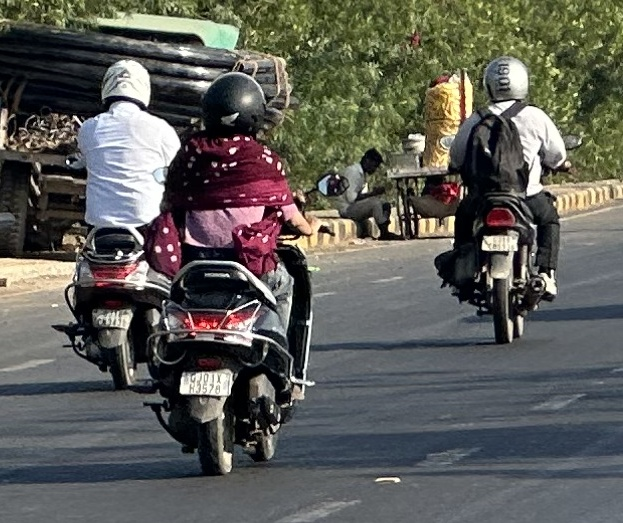BikeWithRider: (128, 64, 325, 481), (45, 51, 190, 396), (425, 48, 588, 349)
Helmet: (192, 65, 273, 143), (92, 51, 160, 115), (476, 50, 536, 109)
